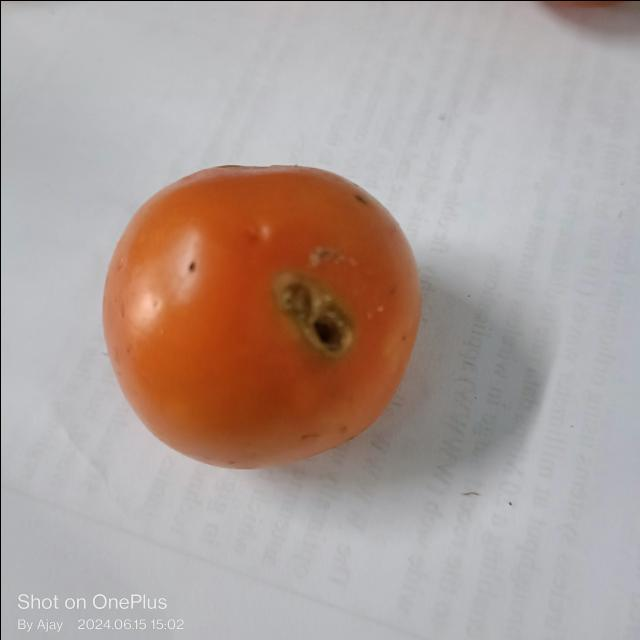fruitworm_bore: (274, 270, 356, 354)
